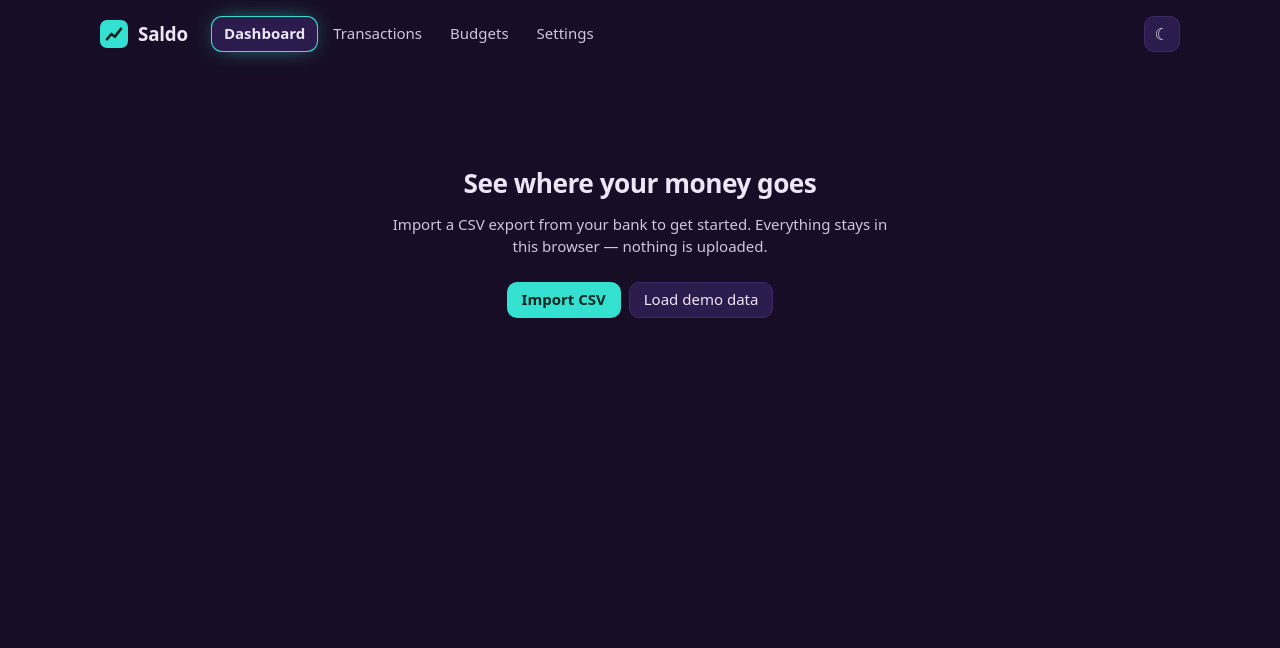
Test case: starts empty and loads demo data
Expected: the heading "See where your money goes" is shown, [464,165,816,201]
Click the button "Load demo data". click: (701, 300)
box: [629,282,773,318]
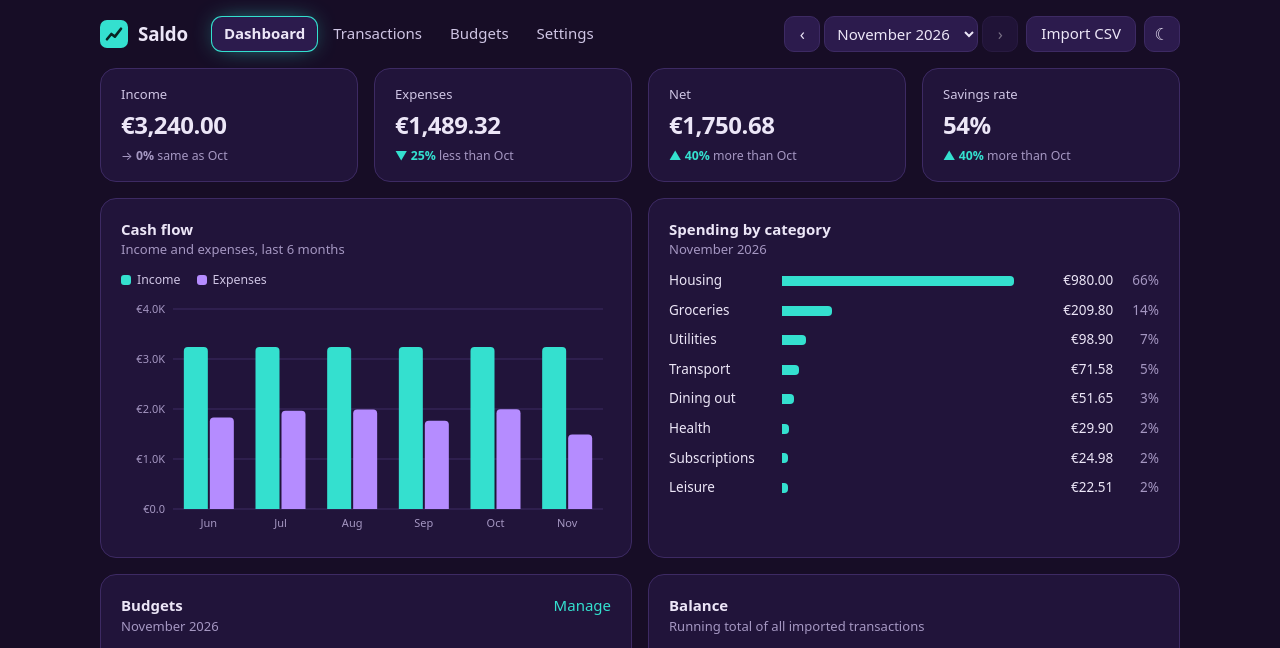
Expected: the heading "Cash flow" is shown, [121,218,193,238]
